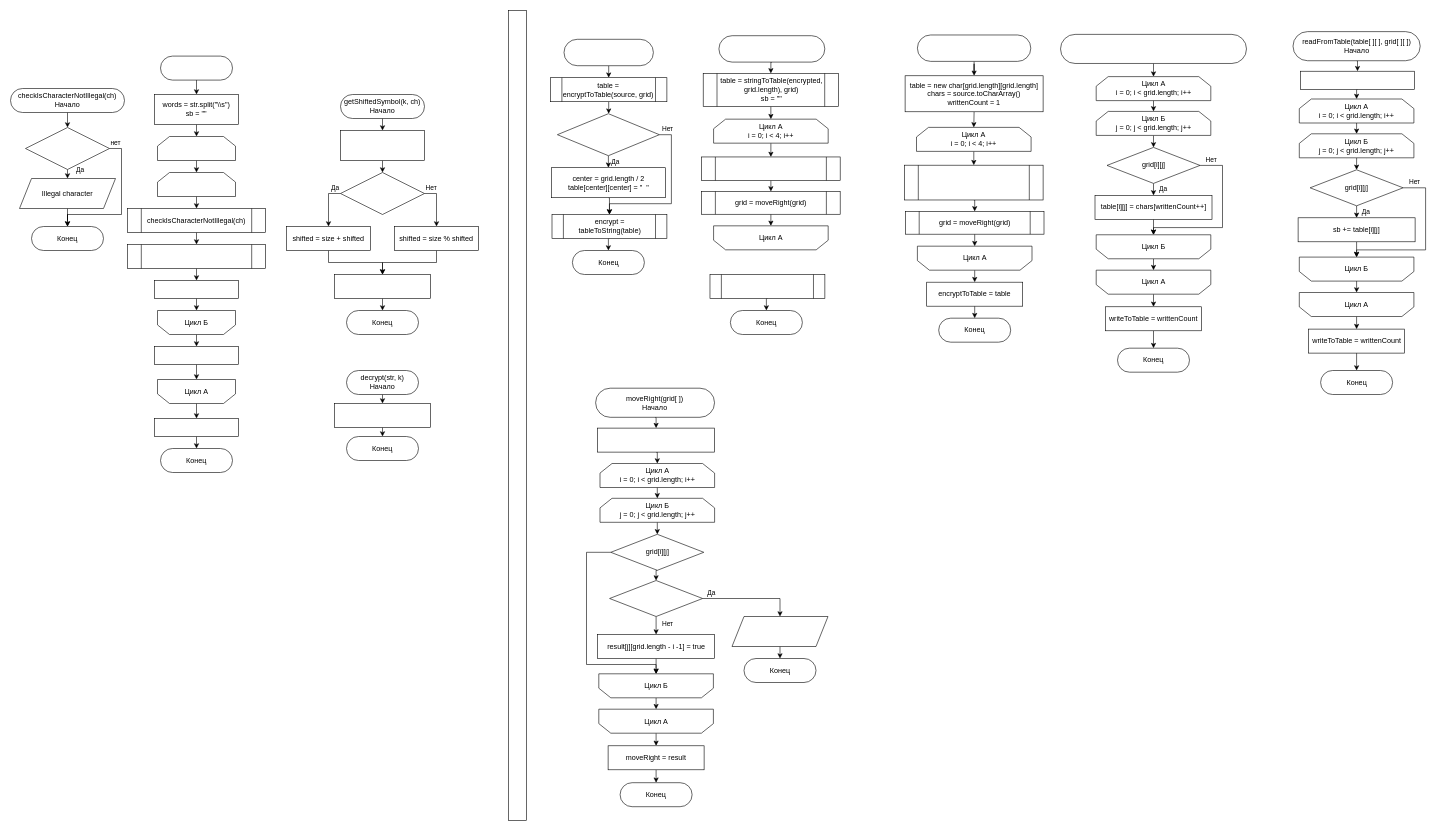
The diagram is 1441 pixels wide and 831 high, and some of its shapes have lost their labels. The centre of each missing label's shape, as x and y in pixels:
ch<start or ch>end: [67,148]
decrypt = encrypt(str, -k): [382,415]
decrypt = sb: [767,286]
decrypt(encrypted, grid[ ][ ]) Начало: [771,48]
encrypt = sb: [196,427]
encrypt(source, grid[ ][ ]) Начало: [608,52]
encrypt(str, k) Начало: [196,68]
encryptToTable(source, grid[ ][ ]) Начало: [974,47]
fromZero = ch - start shifted = fromZero + k: [382,145]
getShiftedSymbol = shifted: [382,286]
grid.length % 2 <> 0: [608,134]
grid[j][grid.length - i -1]: [656,598]
result = new boolean[grid.length][grid.length]: [656,440]
sb += " ": [196,355]
sb += readFromTable(table, grid): [770,168]
sb += shifted + start: [196,289]
sb = "": [1357,80]
shifted < 0: [382,193]
shifted = getShiftedSymbol(k, ch): [196,256]
writeToTable(chars[ ], writtenCount, table[ ][ ], grid[ ][ ]) Начало: [1153,48]
writtenCount = writeToTable(chars, writtenCount, table, grid): [973,182]
Сетка не валидна: [779,631]
Цикл А word in words: [196,148]
Цикл Б ch in word.toCharArray: [196,184]
